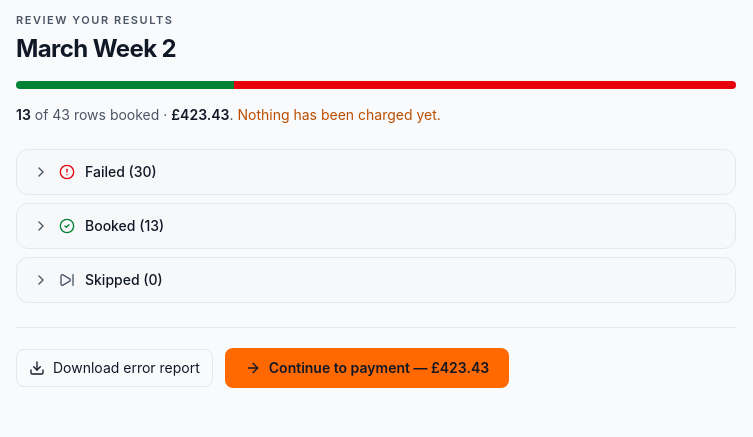
Test: a 409 on continue re-reads the batch and routes instead of erroring
Click the button "Continue to payment — £423.43": click(367, 368) [225,348,509,388]
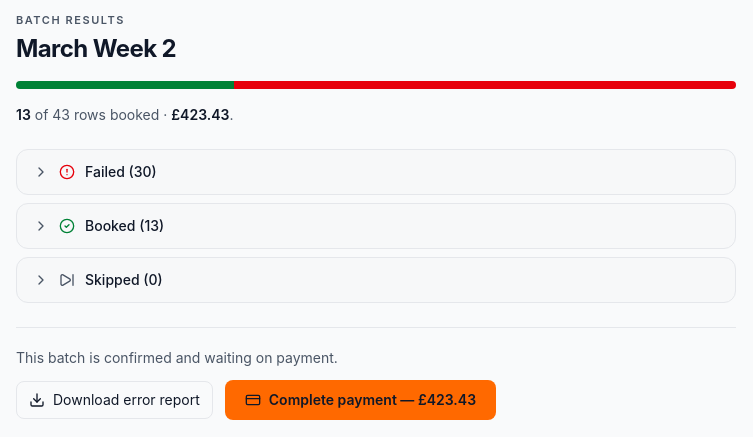
Expected: the text "This batch is confirmed and waiting on payment." is shown, [16,348,338,366]
Expected: the button "Complete payment — £423.43" is shown, [225,380,496,420]
